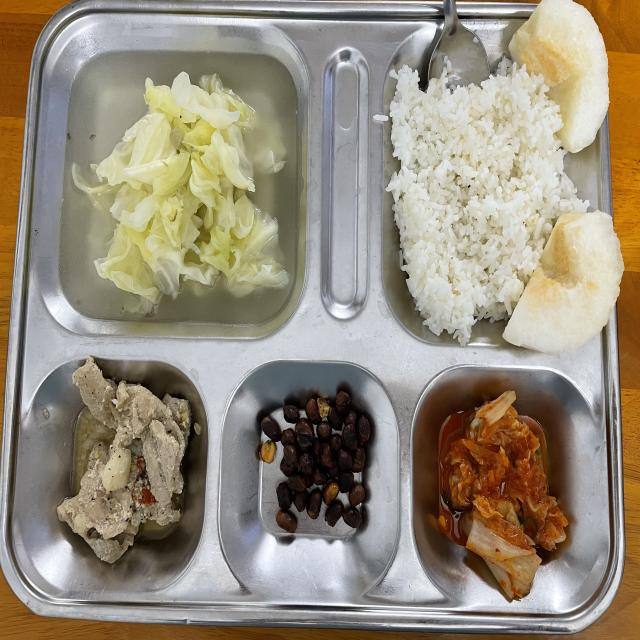thit_kho: (76, 386, 178, 546)
